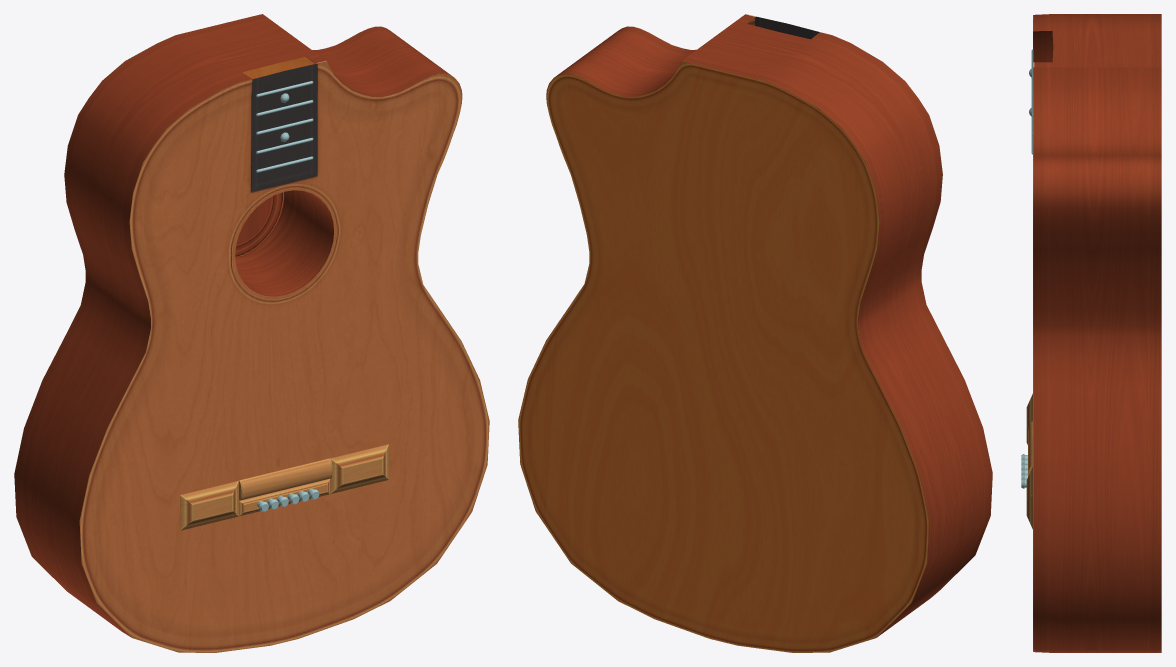
File: Body_updated.fbx
3 views of the same model, side by side, from view 1: azimuth 30°, elevation 25°; view 2: azimuth 150°, elevation 25°; view 3: azimuth 270°, elevation 25° (orthographic).
Visible parts, largest first — view 1: polySurface158; view 2: polySurface158; view 3: polySurface158.
Part boxes in pixels (x1=…): polySurface158: x1=14, y1=14, x2=489, y2=652; polySurface158: x1=518, y1=14, x2=992, y2=652; polySurface158: x1=1021, y1=14, x2=1161, y2=652.
Bounding box in the file's own units: 47.2 × 62.69 × 13.99.
